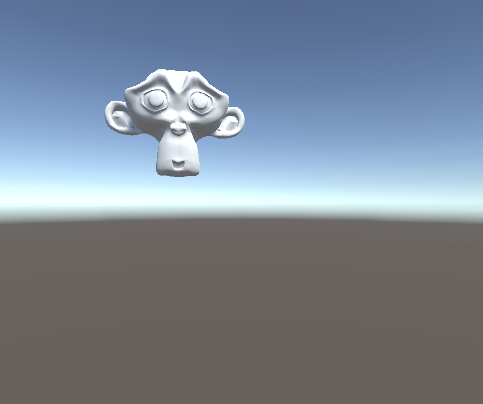monkey: (103, 64, 247, 179)
